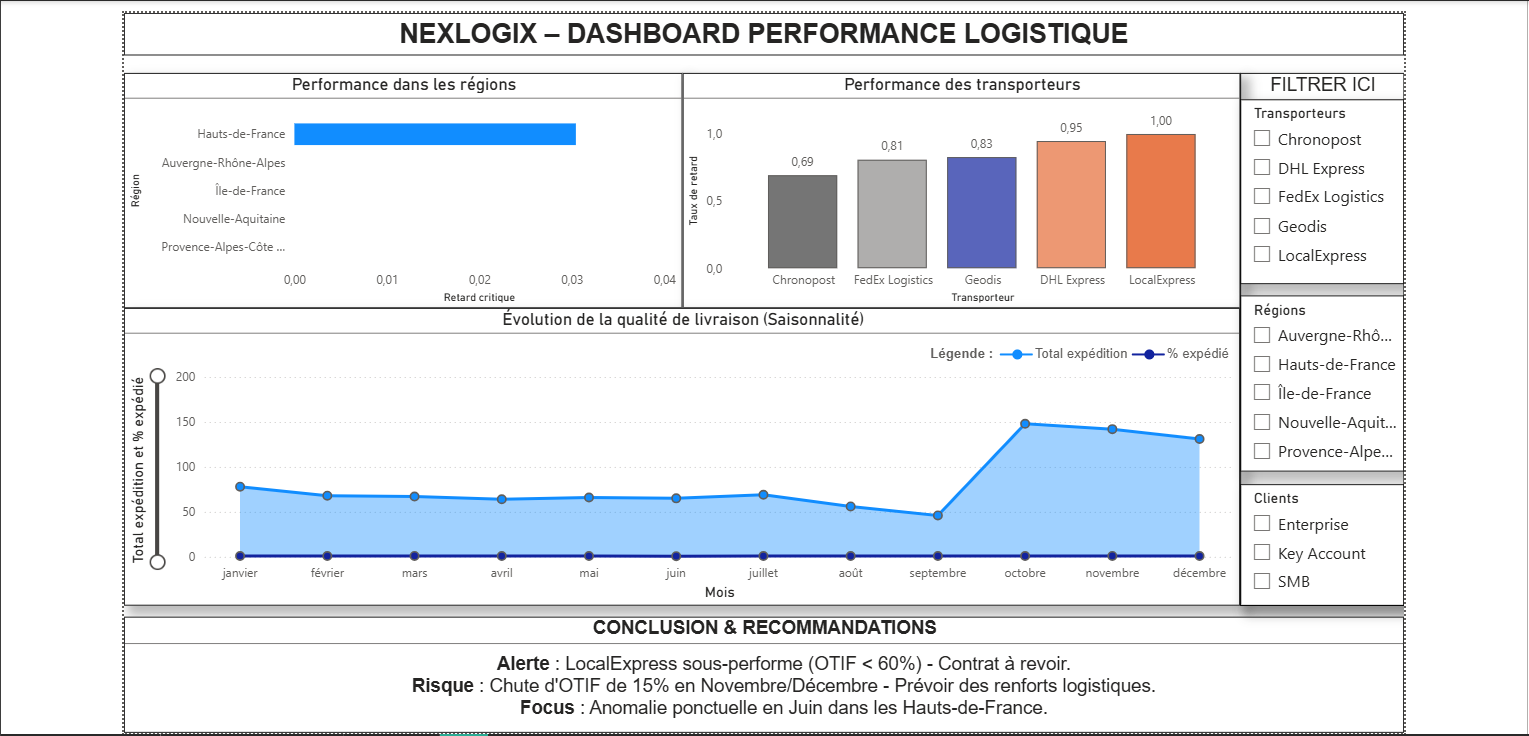

The dashboard page shown, as its layout file describes it:
{"tool":"powerbi","page":{"name":"Synthèse logistique","canvas":[1280,720],"ordinal":0},"visuals":[{"type":"clusteredBarChart","title":"Performance dans les régions","fields":{"Category":["v_performance_logistique.region_name"],"Y":["v_performance_logistique.% Retard Critique"]},"box":[0,60,558.8,235],"z":0},{"type":"clusteredColumnChart","title":"Performance des transporteurs","fields":{"Category":["v_performance_logistique.carrier_name"],"Y":["v_performance_logistique.OTIF %"]},"box":[558.8,60,557.5,235],"z":1000},{"type":"lineChart","title":"Évolution de la qualité de livraison (Saisonnalité)","fields":{"Category":["v_performance_logistique.order_date.Variation.Hiérarchie de dates.Mois"],"Y":["v_performance_logistique.Total Expéditions","v_performance_logistique.OTIF %"]},"box":[0,295,1116.2,297.5],"z":2000},{"type":"slicer","fields":{"Values":["v_performance_logistique.carrier_name"]},"box":[1116.2,86.2,163.8,185],"z":3000},{"type":"slicer","fields":{"Values":["v_performance_logistique.region_name"]},"box":[1116.2,282.5,163.8,176.2],"z":4000},{"type":"slicer","fields":{"Values":["v_performance_logistique.customer_segment"]},"box":[1116.2,471.2,163.8,121.2],"z":5000},{"type":"textbox","title":"CONCLUSION & RECOMMANDATIONS","box":[0,603.8,1280,116.2],"z":6000},{"type":"textbox","box":[0,0,1280,42.5],"z":7000},{"type":"textbox","title":"FILTRER ICI","box":[1116.2,60,163.8,532.5],"z":7001}]}

Visuals, with their boxes in screenshot pixels (x1, y1, x2, y2):
"Performance dans les régions" clusteredBarChart: 111:68:675:306
"Performance des transporteurs" clusteredColumnChart: 675:68:1238:306
"Évolution de la qualité de livraison (Saisonnalité)" lineChart: 111:306:1238:606
slicer - v_performance_logistique.carrier_name: 1238:95:1403:282
slicer - v_performance_logistique.region_name: 1238:293:1403:471
slicer - v_performance_logistique.customer_segment: 1238:483:1403:606
"CONCLUSION & RECOMMANDATIONS" textbox: 111:617:1403:734
textbox: 111:8:1403:51
"FILTRER ICI" textbox: 1238:68:1403:606
